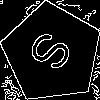S: (27, 28, 82, 80)
